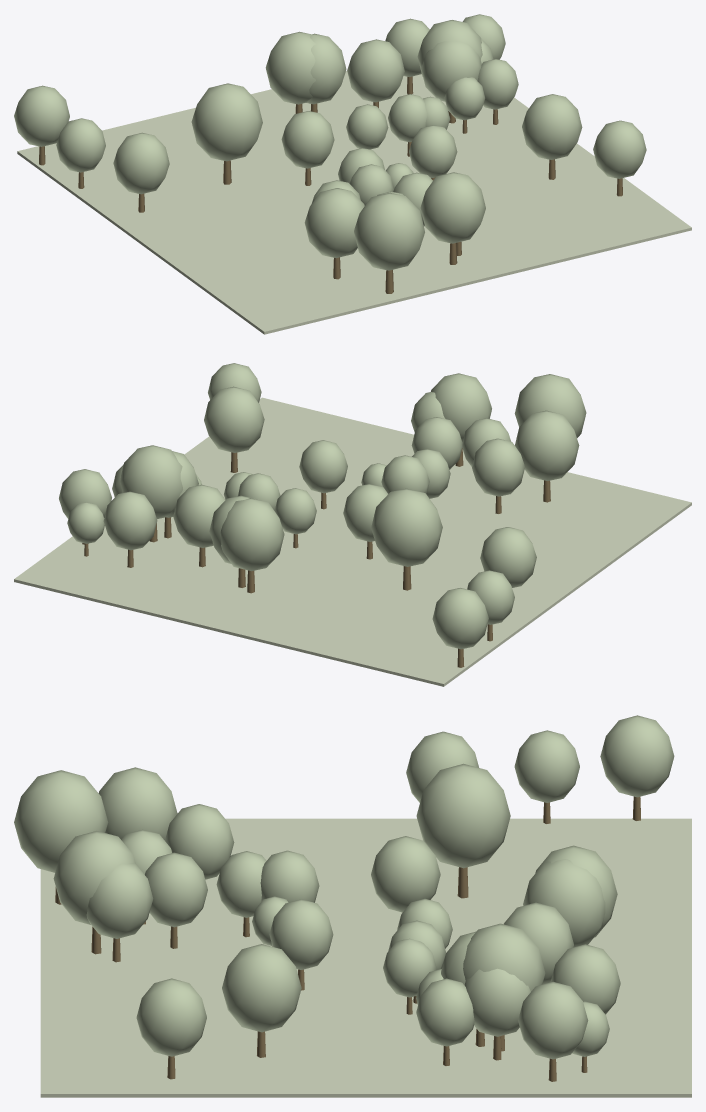
3 views of the same model, one above another, from view 1: azimuth 30°, elevation 25°; view 2: azimuth 150°, elevation 25°; view 3: azimuth 270°, elevation 25° (orthographic). The views are drawn at different scales.
Visible parts, largest first — view 1: terrain, lod-near-12, lod-near-26, lod-near-31, lod-near-17, lod-near-21, lod-near-23, lod-near-19, lod-near-30, lod-near-5, lod-near-8, lod-near-1 (+15 smaller); view 2: terrain, lod-near-12, lod-near-23, lod-near-17, lod-near-28, lod-near-21, lod-near-5, lod-near-26, lod-near-15, lod-near-30, lod-near-31, lod-near-9 (+16 smaller); view 3: terrain, lod-near-12, lod-near-26, lod-near-21, lod-near-5, lod-near-29, lod-near-8, lod-near-17, lod-near-10, lod-near-31, lod-near-6, lod-near-14 (+20 smaller).
Part boxes in pixels (bbox=[...]): terrain: bbox=[17, 71, 691, 334]; lod-near-12: bbox=[191, 83, 262, 161]; lod-near-26: bbox=[354, 192, 424, 270]; lod-near-31: bbox=[420, 172, 485, 243]; lod-near-17: bbox=[304, 188, 364, 258]; lod-near-21: bbox=[522, 94, 582, 159]; lod-near-23: bbox=[265, 31, 316, 104]; lod-near-19: bbox=[347, 39, 404, 102]; lod-near-30: bbox=[113, 132, 169, 194]; lod-near-5: bbox=[14, 85, 69, 146]; lod-near-8: bbox=[593, 120, 646, 178]; lod-near-1: bbox=[421, 41, 481, 101]; terrain: bbox=[14, 397, 691, 686]; lod-near-12: bbox=[371, 488, 442, 566]; lod-near-23: bbox=[220, 498, 284, 571]; lod-near-17: bbox=[515, 410, 579, 480]; lod-near-28: bbox=[120, 445, 182, 518]; lod-near-21: bbox=[204, 386, 264, 452]; lod-near-5: bbox=[432, 588, 488, 649]; lod-near-26: bbox=[514, 374, 586, 437]; lod-near-15: bbox=[103, 491, 157, 550]; lod-near-30: bbox=[480, 527, 536, 587]; lod-near-31: bbox=[431, 373, 491, 442]; lod-near-9: bbox=[472, 438, 524, 496]; terrain: bbox=[40, 818, 691, 1097]; lod-near-12: bbox=[416, 763, 510, 868]; lod-near-26: bbox=[14, 770, 108, 872]; lod-near-21: bbox=[222, 944, 301, 1032]; lod-near-5: bbox=[600, 715, 674, 797]; lod-near-29: bbox=[523, 859, 605, 947]; lod-near-8: bbox=[136, 978, 206, 1056]; lod-near-17: bbox=[98, 767, 177, 840]; lod-near-10: bbox=[518, 981, 588, 1059]; lod-near-31: bbox=[53, 831, 135, 924]; lod-near-6: bbox=[371, 836, 440, 912]; lod-near-14: bbox=[86, 863, 153, 938].
Size of the model in its own units: 33.87 by 7.31 by 33.31.
